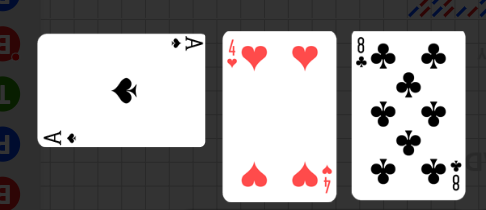8C: (448, 157, 463, 192)
AS: (42, 128, 79, 145), (168, 36, 203, 53)
